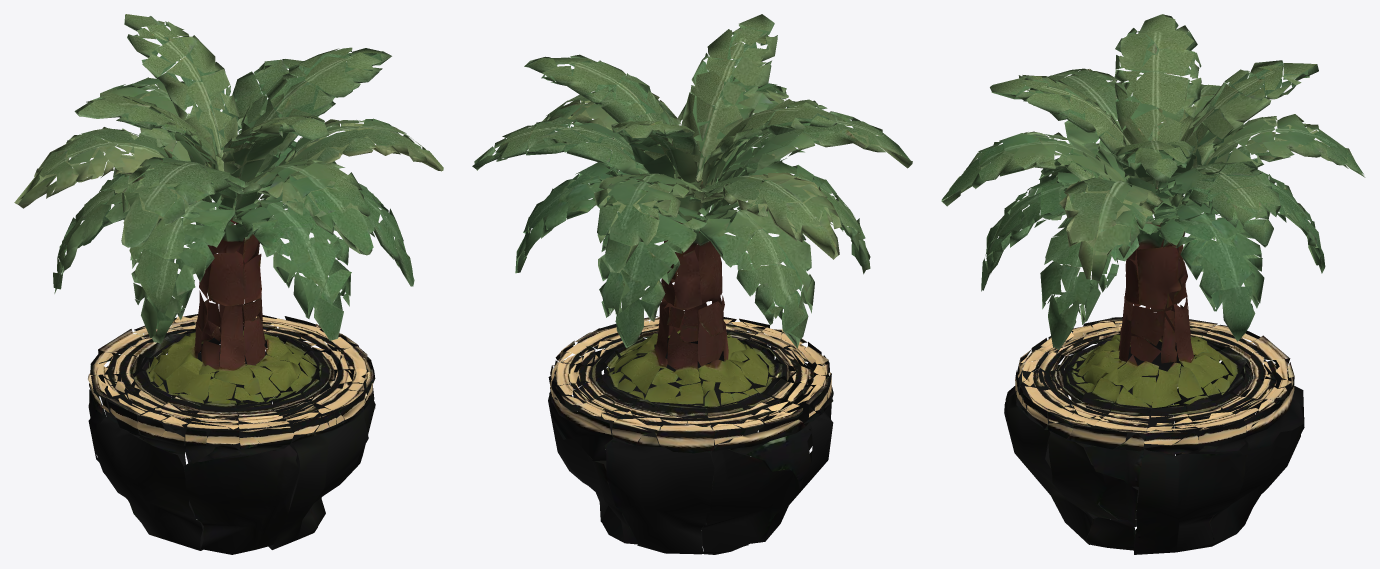
Rendered from palm.glb.
3 renders of one model, left to right at view 1: azimuth 30°, elevation 25°; view 2: azimuth 150°, elevation 25°; view 3: azimuth 270°, elevation 25°, orthographic.
Parts seen in each view (by area): view 1: Mesh_0; view 2: Mesh_0; view 3: Mesh_0.
Boxes of the visible parts, x1,y1,x2,y2 form: Mesh_0: [14, 14, 443, 554]; Mesh_0: [472, 14, 912, 554]; Mesh_0: [941, 14, 1365, 554].
Size of the model in its own units: 1.75 by 2.1 by 1.81.
Materials: 1 (1 with a texture image).
